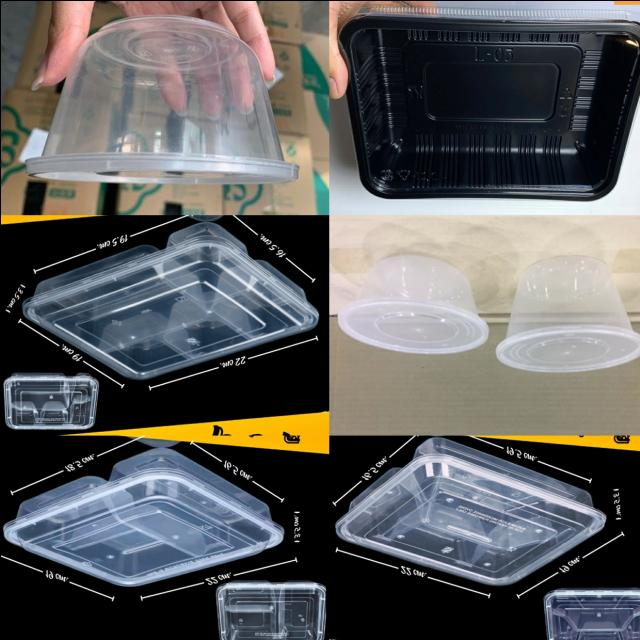plastik: (339, 7, 640, 199), (21, 222, 318, 379), (25, 14, 298, 182), (335, 437, 605, 584), (3, 448, 282, 585), (495, 257, 640, 371), (338, 254, 487, 353), (215, 580, 325, 640), (3, 372, 97, 429), (543, 588, 640, 640)
